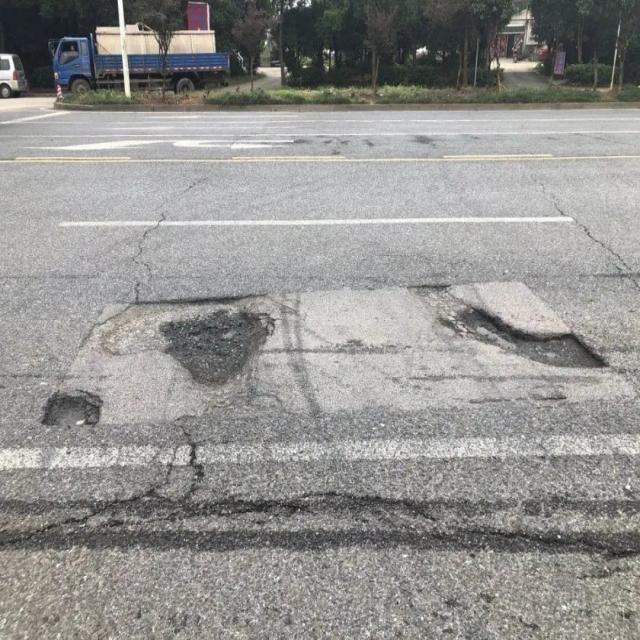Pothole: (31, 274, 640, 437)
